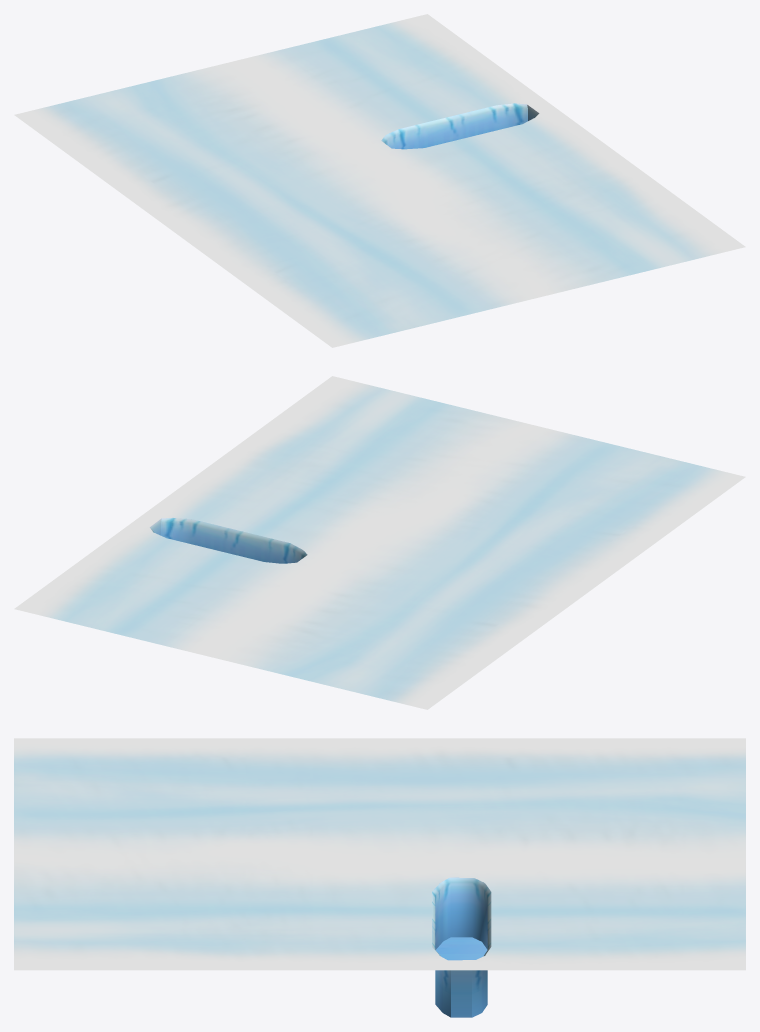
Rendered from Hole_S_Size_06.FBX.
3 views of the same model, one above another, from view 1: azimuth 30°, elevation 25°; view 2: azimuth 150°, elevation 25°; view 3: azimuth 270°, elevation 25° (orthographic). The views are drawn at different scales.
Visible parts, largest first — view 1: modelRoad068; view 2: modelRoad068; view 3: modelRoad068.
Boxes of the visible parts, x1,y1,x2,y2 form: modelRoad068: [14, 14, 745, 347]; modelRoad068: [14, 376, 745, 709]; modelRoad068: [14, 738, 745, 1017].
Bounding box in the file's own units: 600 × 70 × 800.
